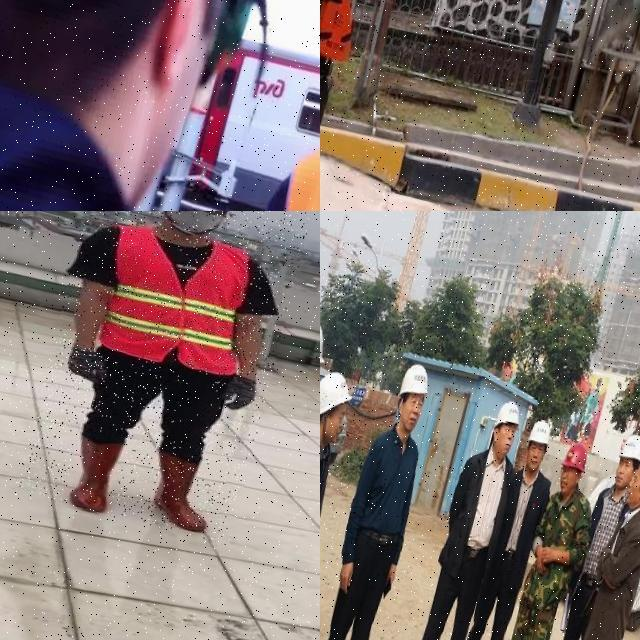boots: (139, 448, 230, 536), (61, 428, 126, 514)
helmet: (320, 369, 358, 425), (397, 361, 435, 403), (492, 397, 525, 436), (560, 442, 592, 474), (525, 418, 554, 452), (320, 308, 333, 371), (617, 431, 640, 463), (632, 451, 640, 502)
vest: (85, 218, 260, 380), (320, 0, 376, 88)
